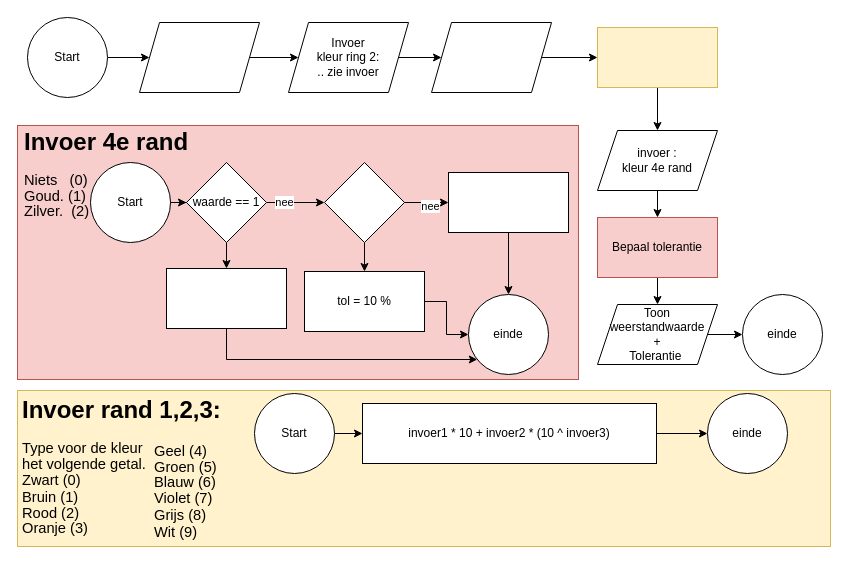
The diagram is 848 pixels wide and 584 high, and some of its shapes have lost their labels. The shapes that lost their labels are listed below. From the top down, each one's centre as x and y in pixels, then its label:
[199,57]: invoer kleur ring 1: .. zie invoer
[491,57]: Invoer kleur ring 3: .. zie invoer
[657,57]: Bereken de weerstandswaarde
[364,202]: waarde == 2
[508,202]: tol = 20 %
[226,298]: tol = 5 %
